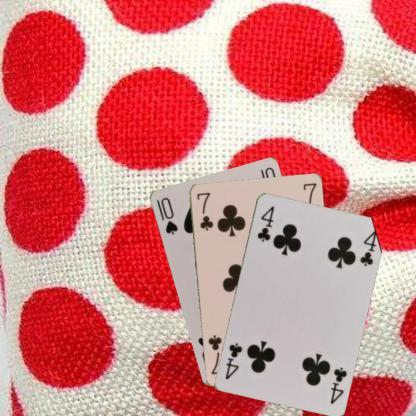10s: (158, 195, 180, 236)
4c: (254, 204, 276, 244), (328, 364, 348, 405)
7c: (193, 190, 214, 232)
